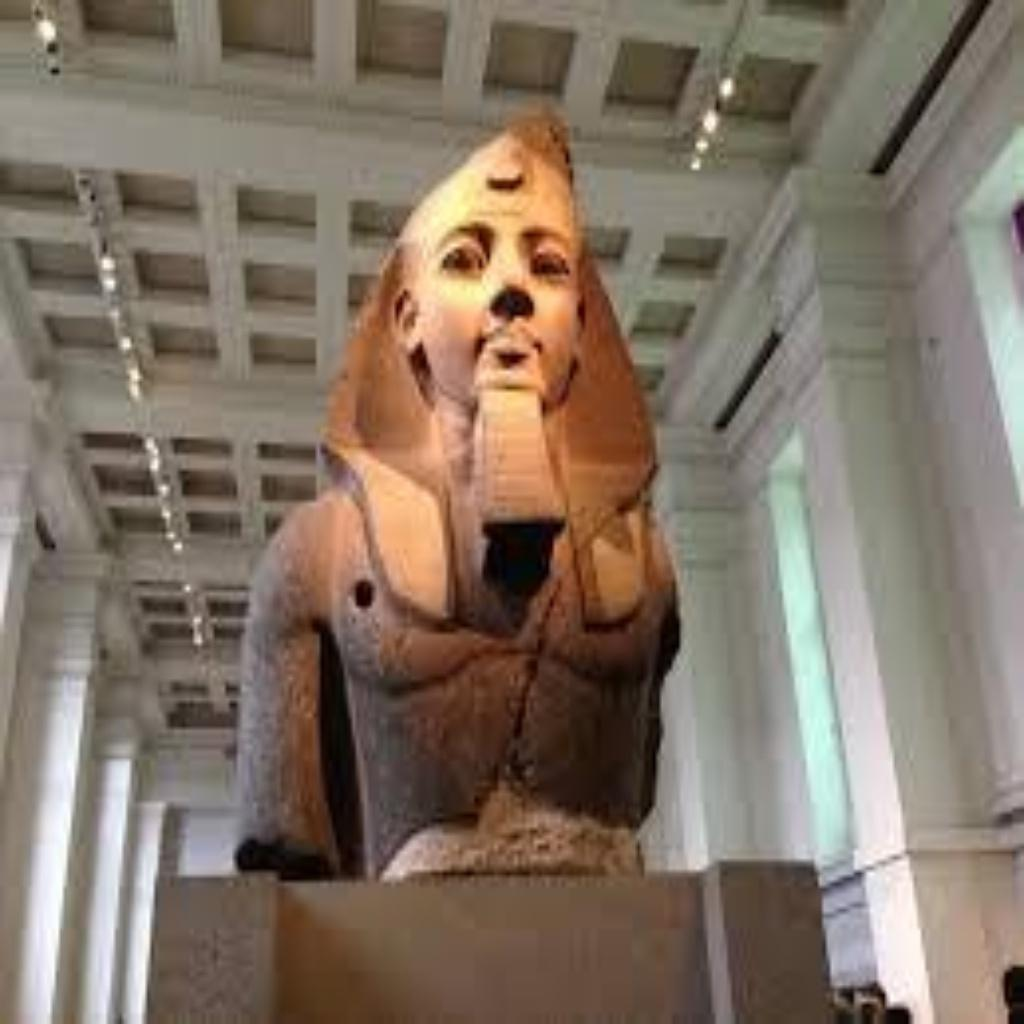bust of Ramesses II: (229, 106, 684, 882)
